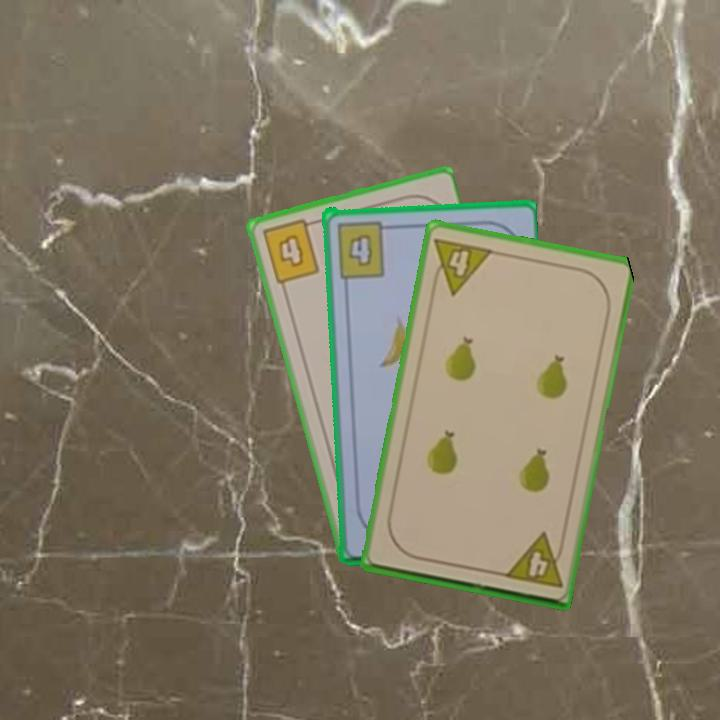4b: (258, 216, 322, 287), (333, 217, 395, 280)
4p: (427, 233, 496, 298), (500, 529, 568, 591)
